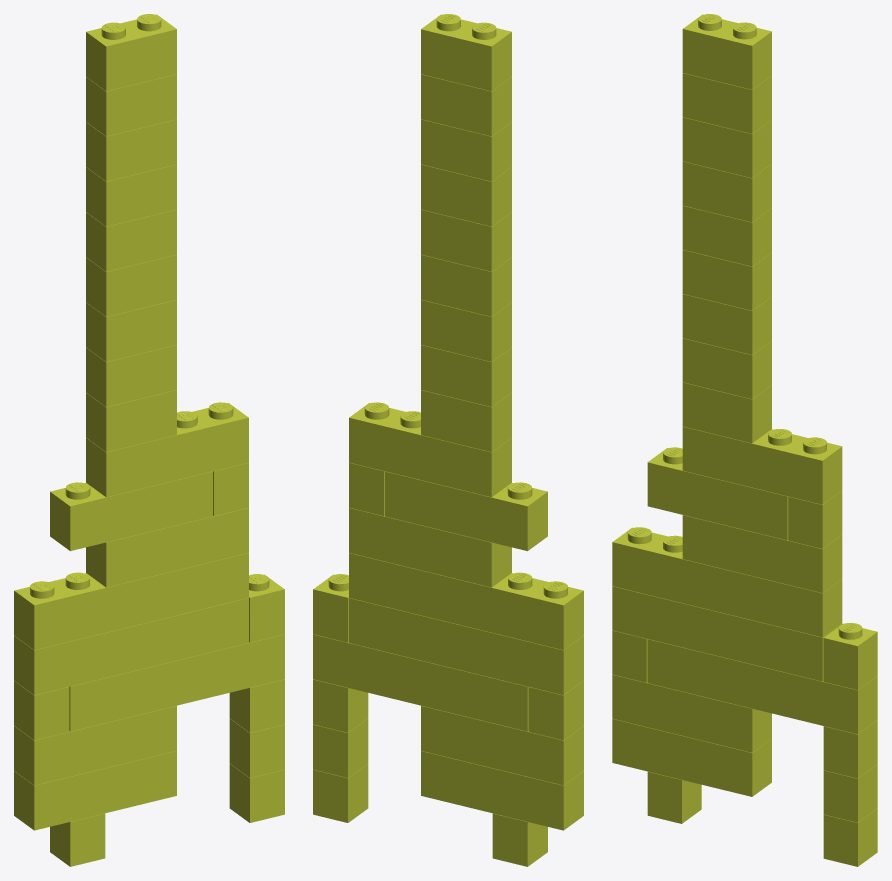
File: 2b72305a_trial_1_123.glb
The picture shows the model from 3 angles, left to right: view 1: azimuth 30°, elevation 25°; view 2: azimuth 150°, elevation 25°; view 3: azimuth 330°, elevation 25°; orthographic projection. The views are drawn at different scales.
Visible parts, largest first — view 1: 00011_3009.DAT, 00010_3009.DAT, 00007_3009.DAT, 00015_3010.DAT, 00014_3010.DAT, 00004_3010.DAT, 00006_3010.DAT, 00012_3010.DAT, 00024_3004.DAT, 00020_3004.DAT, 00021_3004.DAT, 00019_3004.DAT (+12 smaller); view 2: 00011_3009.DAT, 00010_3009.DAT, 00007_3009.DAT, 00015_3010.DAT, 00014_3010.DAT, 00004_3010.DAT, 00006_3010.DAT, 00012_3010.DAT, 00024_3004.DAT, 00020_3004.DAT, 00021_3004.DAT, 00019_3004.DAT (+12 smaller); view 3: 00011_3009.DAT, 00007_3009.DAT, 00010_3009.DAT, 00015_3010.DAT, 00012_3010.DAT, 00004_3010.DAT, 00006_3010.DAT, 00014_3010.DAT, 00024_3004.DAT, 00019_3004.DAT, 00023_3004.DAT, 00018_3004.DAT (+12 smaller).
Part boxes in pixels (x1,y1,x2,y2): 00011_3009.DAT: (14, 553, 248, 649); 00010_3009.DAT: (14, 598, 248, 695); 00007_3009.DAT: (69, 634, 284, 731); 00015_3010.DAT: (86, 402, 248, 497); 00014_3010.DAT: (50, 471, 212, 551); 00004_3010.DAT: (14, 751, 176, 830); 00006_3010.DAT: (14, 705, 176, 785); 00012_3010.DAT: (86, 507, 248, 587); 00024_3004.DAT: (86, 14, 176, 91); 00020_3004.DAT: (86, 209, 176, 271); 00021_3004.DAT: (86, 164, 176, 226); 00019_3004.DAT: (86, 254, 176, 316); 00011_3009.DAT: (349, 553, 583, 649); 00010_3009.DAT: (349, 598, 583, 695); 00007_3009.DAT: (313, 634, 528, 731); 00015_3010.DAT: (349, 402, 511, 497); 00014_3010.DAT: (385, 471, 547, 551); 00004_3010.DAT: (421, 751, 583, 830); 00006_3010.DAT: (421, 705, 583, 785); 00012_3010.DAT: (349, 507, 511, 587); 00024_3004.DAT: (421, 14, 511, 91); 00020_3004.DAT: (421, 209, 511, 271); 00021_3004.DAT: (421, 164, 511, 226); 00019_3004.DAT: (421, 254, 511, 316); 00011_3009.DAT: (612, 527, 842, 637); 00007_3009.DAT: (647, 639, 877, 734); 00010_3009.DAT: (612, 586, 842, 681); 00015_3010.DAT: (682, 426, 842, 504); 00012_3010.DAT: (682, 515, 842, 592); 00004_3010.DAT: (612, 719, 771, 796); 00006_3010.DAT: (612, 674, 771, 752); 00014_3010.DAT: (647, 447, 788, 540); 00024_3004.DAT: (682, 14, 771, 89); 00019_3004.DAT: (682, 250, 771, 310); 00023_3004.DAT: (682, 73, 771, 133); 00018_3004.DAT: (682, 294, 771, 354).
Bounding box in the file's own units: 0.0558 × 0.1743 × 0.0078.
